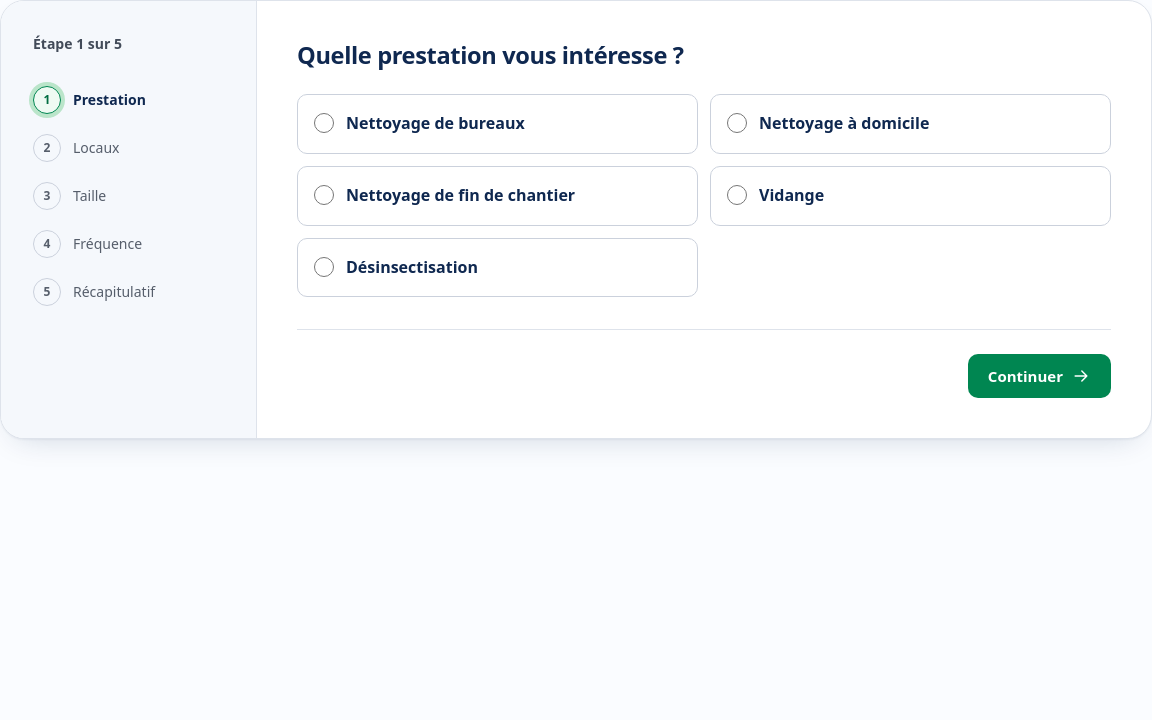
Test: simulateur de nettoyage (formulaire guidé) › refuse d’avancer sans réponse et l’explique près des choix
This screenshot has width=1152, height=720.
Click the button "Continuer": {"x": 1039, "y": 376} 968,354 -> 1111,398
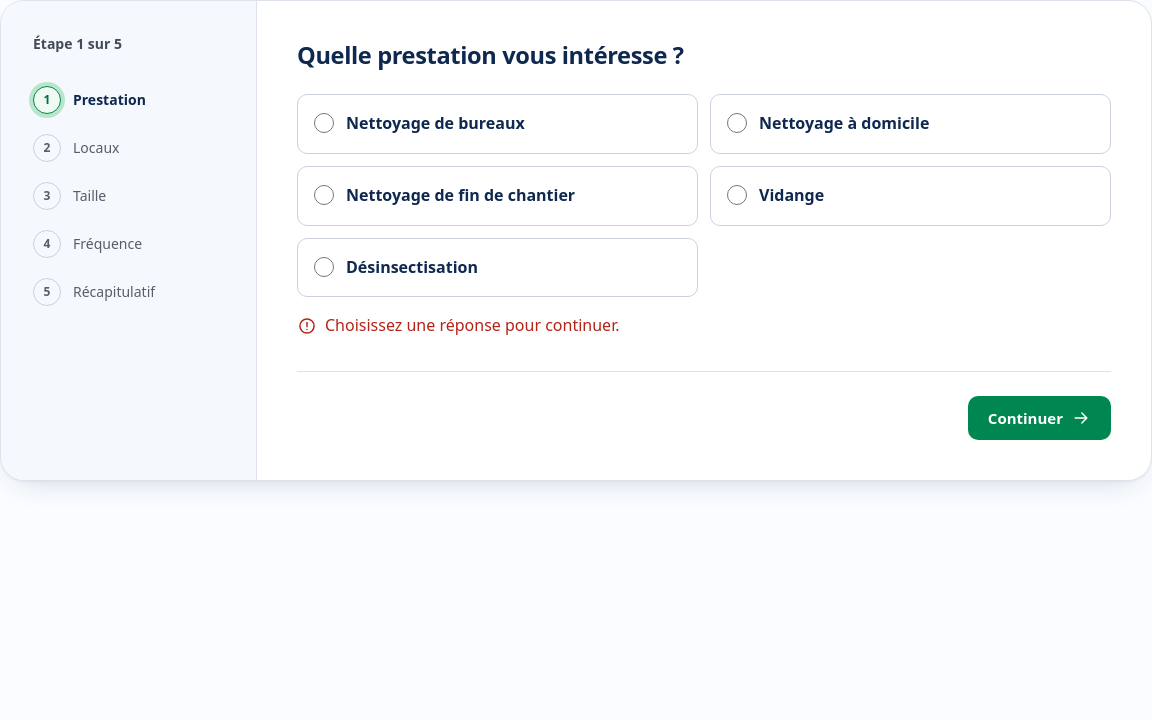
Expected: the heading shows "Quelle prestation vous intéresse", 297,39 -> 684,71
Expected: the message reads "Choisissez une réponse pour continuer.", 325,314 -> 620,336
